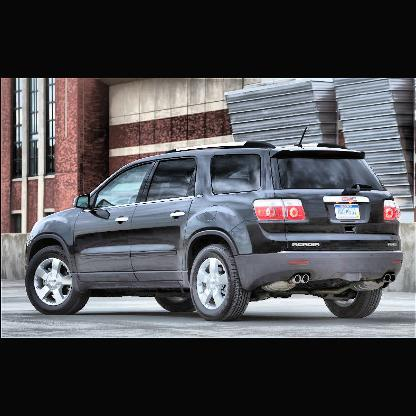GMC Acadia SUV 2012: (19, 141, 405, 321)
